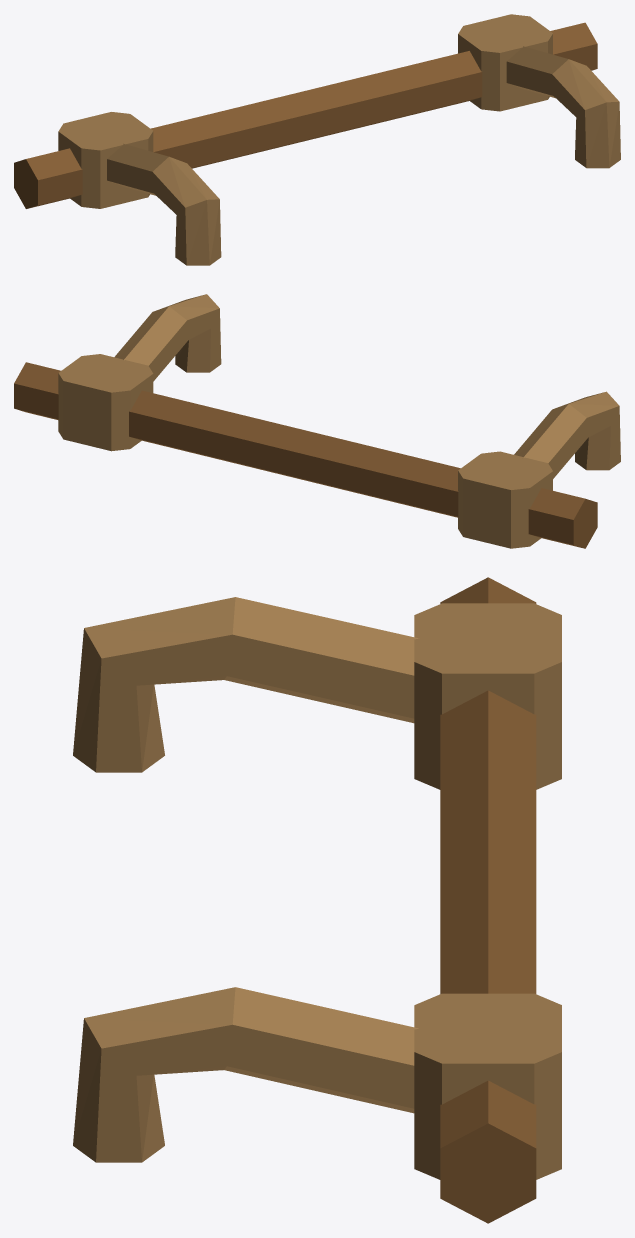
Rendered from pz_ladder_top.obj.
3 views of the same model, one above another, from view 1: azimuth 30°, elevation 25°; view 2: azimuth 150°, elevation 25°; view 3: azimuth 270°, elevation 25° (orthographic). The views are drawn at different scales.
Visible parts, largest first — view 1: pz_ladder_top; view 2: pz_ladder_top; view 3: pz_ladder_top.
Part boxes in pixels (box(x1,y1,x2,y2)): pz_ladder_top: box(14, 14, 620, 265); pz_ladder_top: box(14, 294, 620, 548); pz_ladder_top: box(73, 577, 561, 1223).
Size of the model in its own units: 0.7 by 0.0948 by 0.265.
